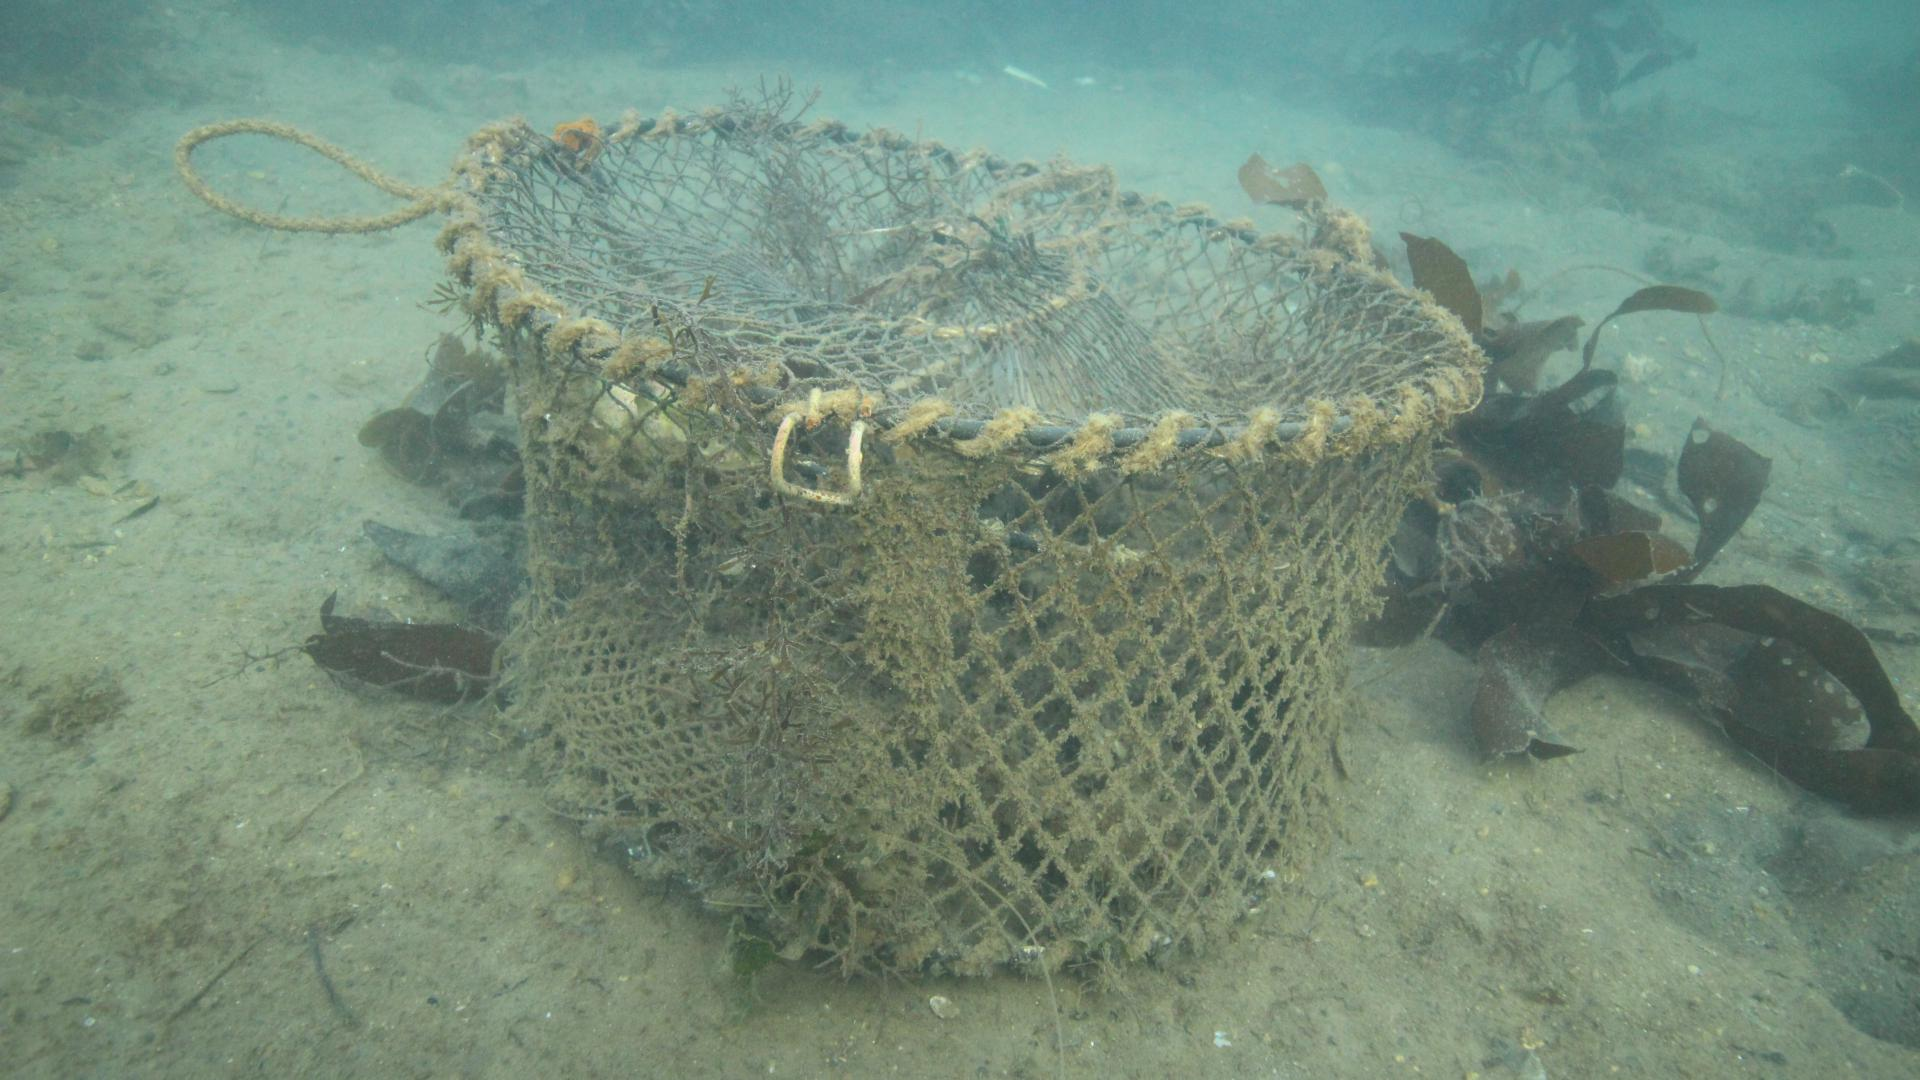circular fish trap: (443, 105, 1487, 980)
rope: (173, 115, 448, 237)
